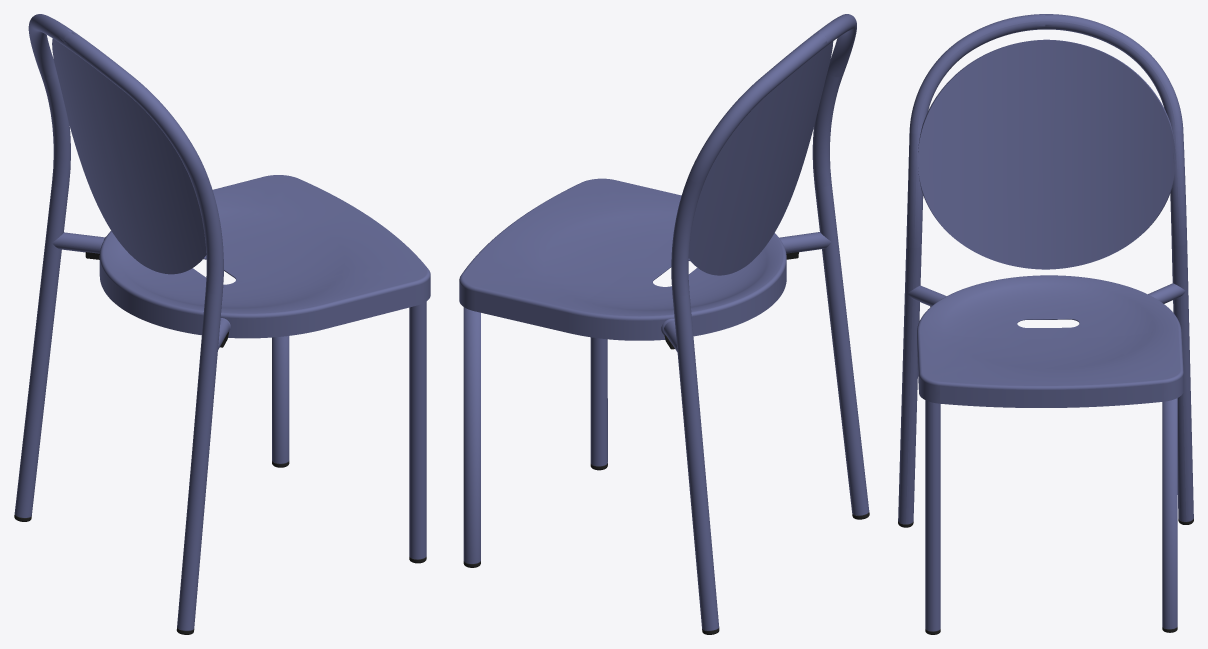
File: louisechair.glb
The picture shows the model from 3 angles, left to right: view 1: azimuth 30°, elevation 25°; view 2: azimuth 150°, elevation 25°; view 3: azimuth 270°, elevation 25°; orthographic projection. The views are drawn at different scales.
Parts seen in each view (by area): view 1: Brep.600, Brep.591, Brep.577, Brep.596, Brep.593, Brep.583; view 2: Brep.600, Brep.591, Brep.577, Brep.593, Brep.596, Brep.582; view 3: Brep.577, Brep.600, Brep.591, Brep.596, Brep.593, Brep.582, Brep.583.
Part boxes in pixels (bbox=[...]): Brep.600: bbox=[99, 175, 430, 338]; Brep.591: bbox=[14, 14, 223, 630]; Brep.577: bbox=[52, 38, 206, 274]; Brep.596: bbox=[409, 301, 426, 559]; Brep.593: bbox=[272, 336, 289, 463]; Brep.583: bbox=[52, 232, 104, 253]; Brep.600: bbox=[459, 178, 786, 340]; Brep.591: bbox=[671, 14, 869, 630]; Brep.577: bbox=[688, 41, 833, 275]; Brep.593: bbox=[463, 307, 480, 563]; Brep.596: bbox=[590, 337, 607, 466]; Brep.582: bbox=[779, 232, 831, 253]; Brep.577: bbox=[918, 39, 1175, 269]; Brep.600: bbox=[917, 275, 1183, 407]; Brep.591: bbox=[898, 14, 1193, 524]; Brep.596: bbox=[925, 400, 940, 631]; Brep.593: bbox=[1162, 398, 1177, 629]; Brep.582: bbox=[907, 285, 946, 306]; Brep.583: bbox=[1148, 283, 1185, 303].
Bounding box in the file's own units: 0.5264 × 0.878 × 0.4762.
